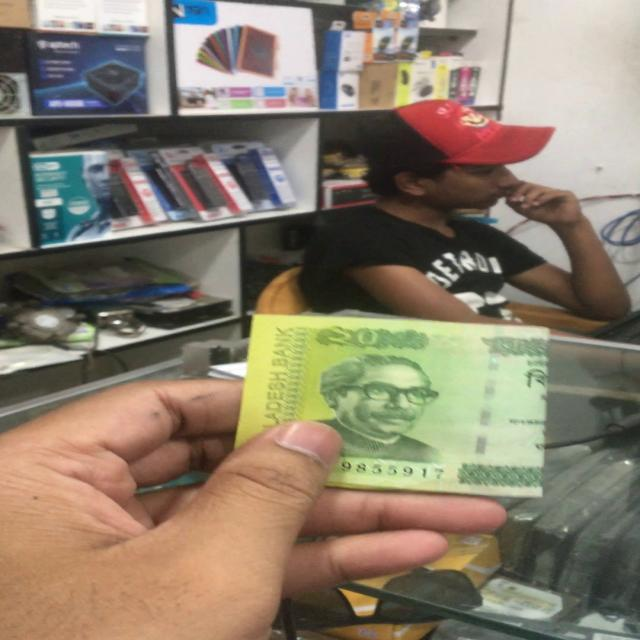Taka: (240, 309, 542, 502)
